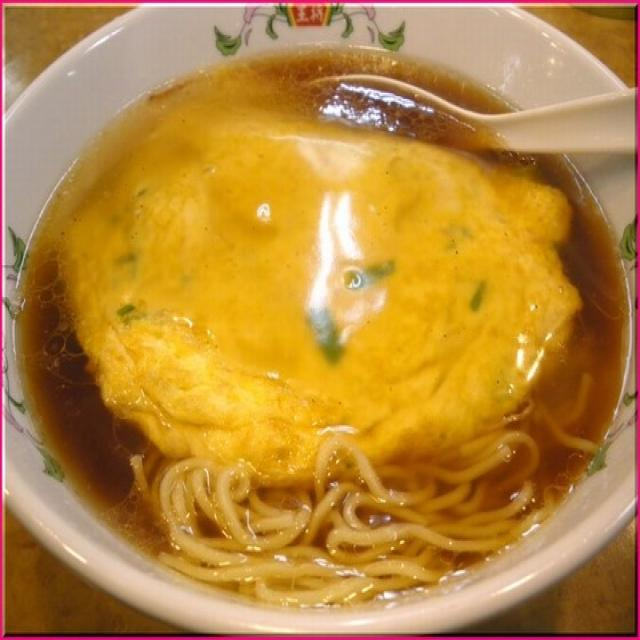面条主食: (2, 4, 637, 631)
